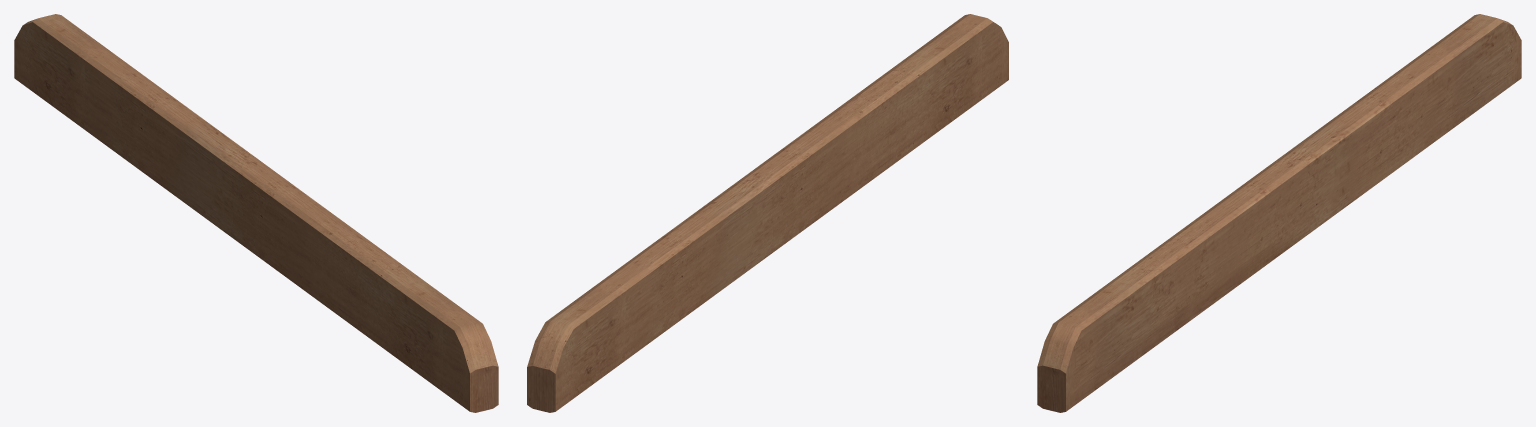
The model's file is SM_JSH_BeamF.fbx.
The picture shows the model from 3 angles, left to right: view 1: azimuth 30°, elevation 25°; view 2: azimuth 150°, elevation 25°; view 3: azimuth 330°, elevation 25°; orthographic projection.
Parts seen in each view (by area): view 1: SM_JSH_BeamF; view 2: SM_JSH_BeamF; view 3: SM_JSH_BeamF.
Boxes of the visible parts, x1=… form: SM_JSH_BeamF: x1=14, y1=14, x2=498, y2=412; SM_JSH_BeamF: x1=527, y1=14, x2=1008, y2=412; SM_JSH_BeamF: x1=1037, y1=14, x2=1521, y2=412.
Size of the model in its own units: 16.75 by 463 by 41.9.
Materials: 1 (1 with a texture image).
